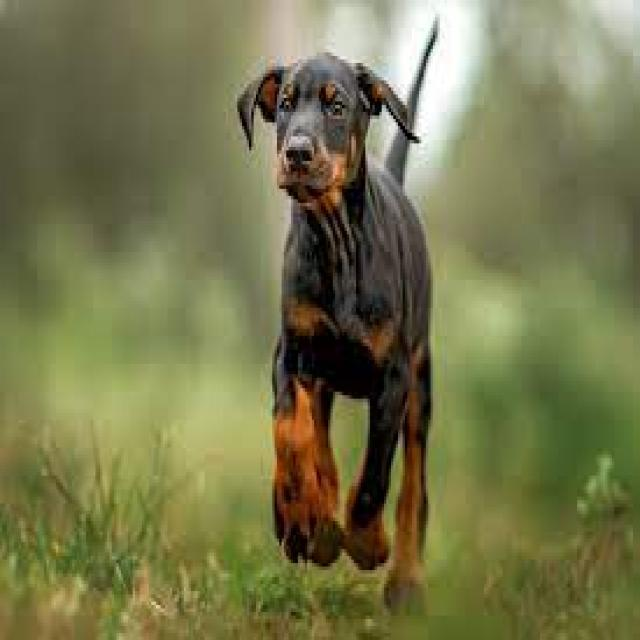Dog: (235, 11, 441, 620)
